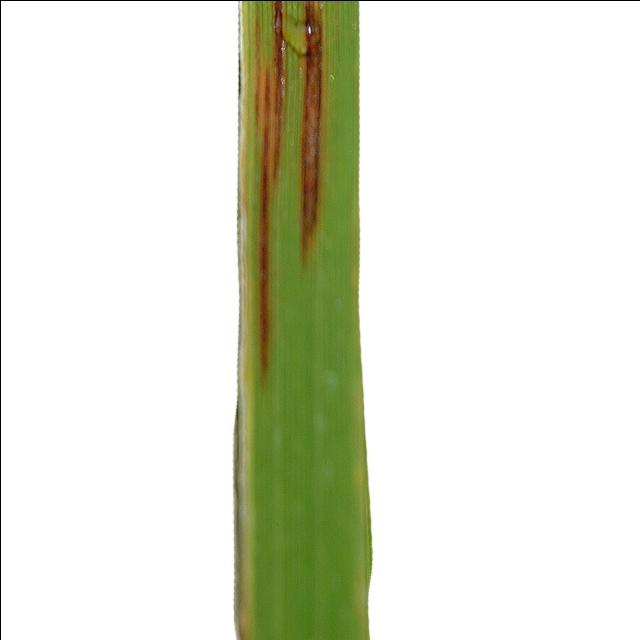Narrow brown: (196, 0, 398, 640)
